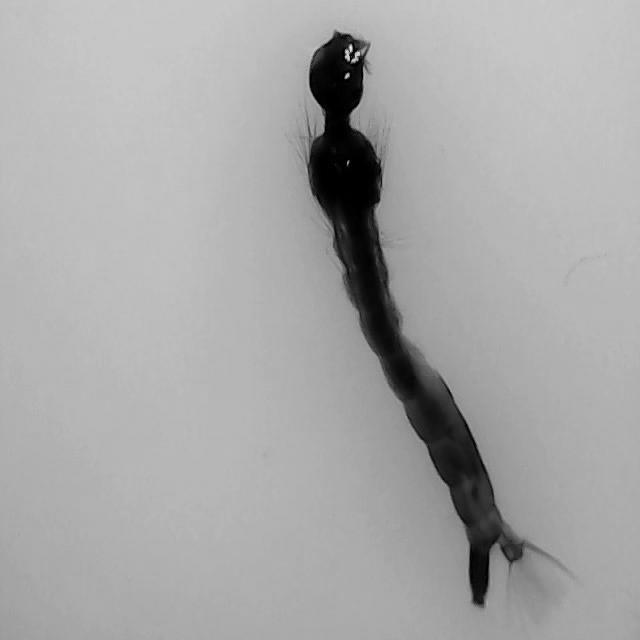larvas: (307, 30, 525, 602)
